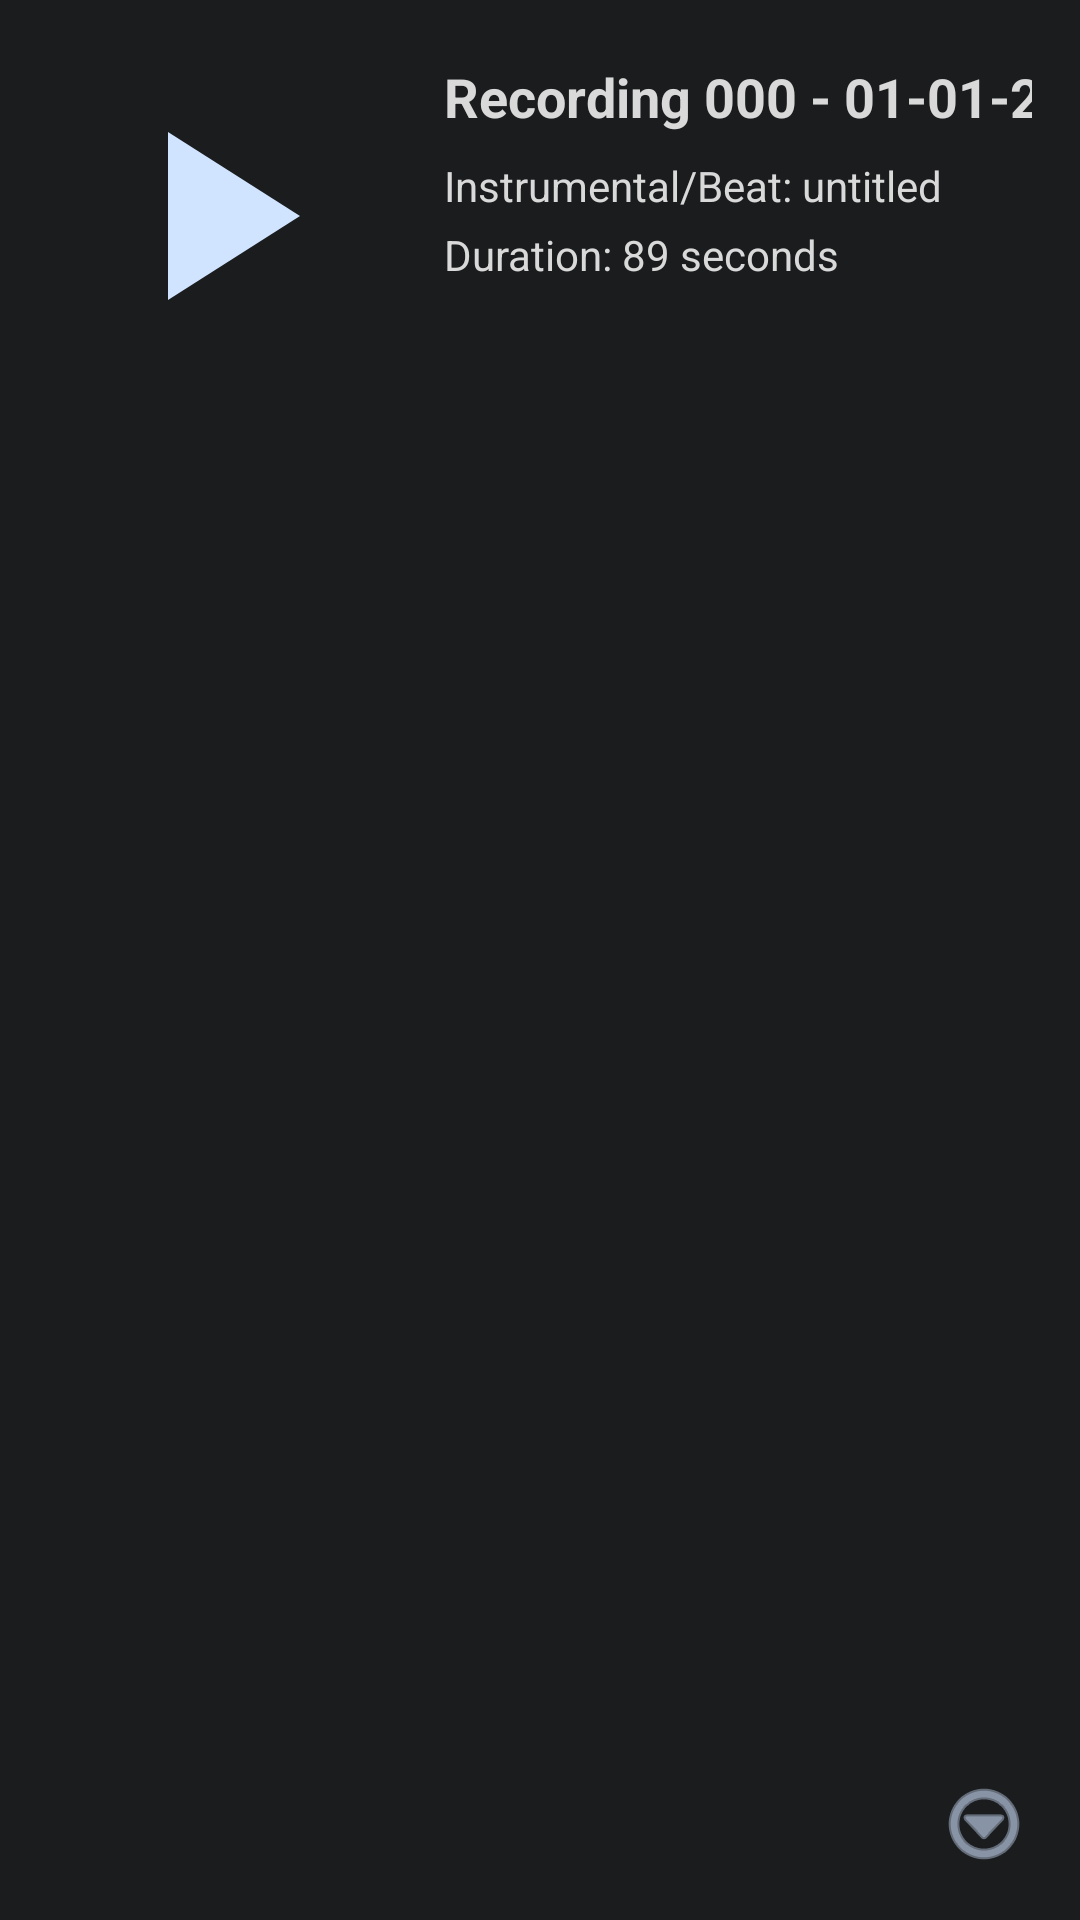

Icons on this 1080x1920 Android screen, each with the point to tap as [x,y]:
Reproducir/Pausar: [234,216]
Ver detalles: [984,1824]
